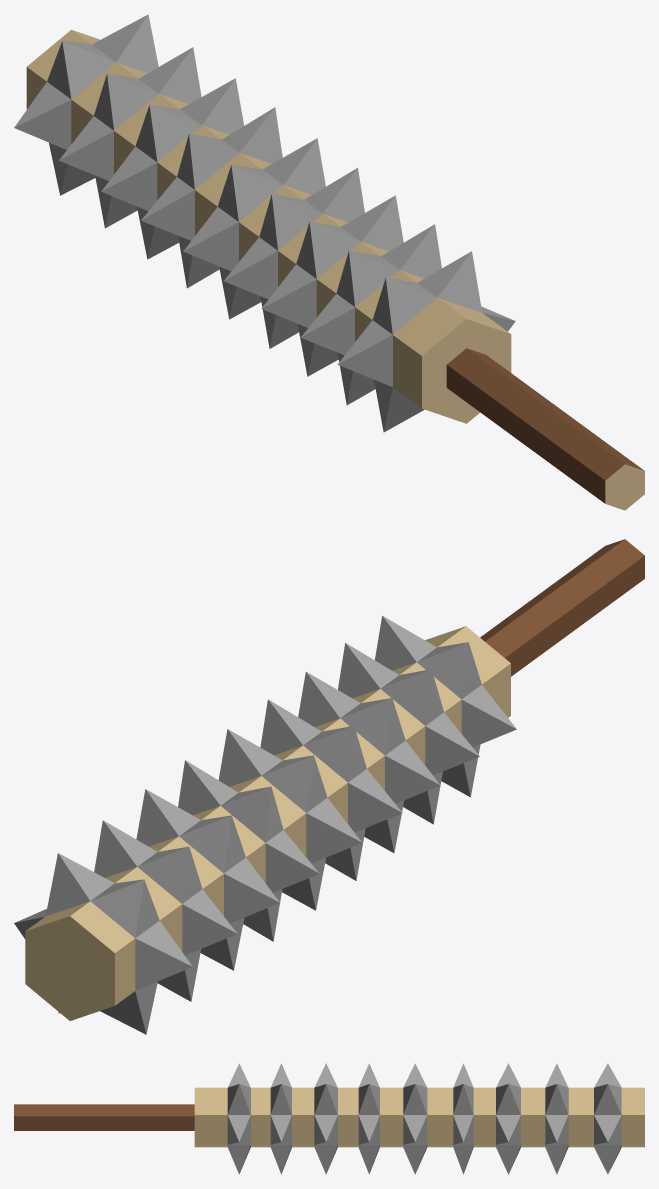
The model's file is kanaboequip.fbx.
3 renders of one model, top to bottom at view 1: azimuth 30°, elevation 25°; view 2: azimuth 150°, elevation 25°; view 3: azimuth 270°, elevation 25°, orthographic. The views are drawn at different scales.
Visible parts, largest first — view 1: Cylinder; view 2: Cylinder; view 3: Cylinder.
Boxes of the visible parts, x1=… form: Cylinder: x1=14, y1=14, x2=644, y2=510; Cylinder: x1=14, y1=539, x2=644, y2=1034; Cylinder: x1=14, y1=1063, x2=644, y2=1174.
Bounding box in the file's own units: 93.41 × 80.08 × 502.
